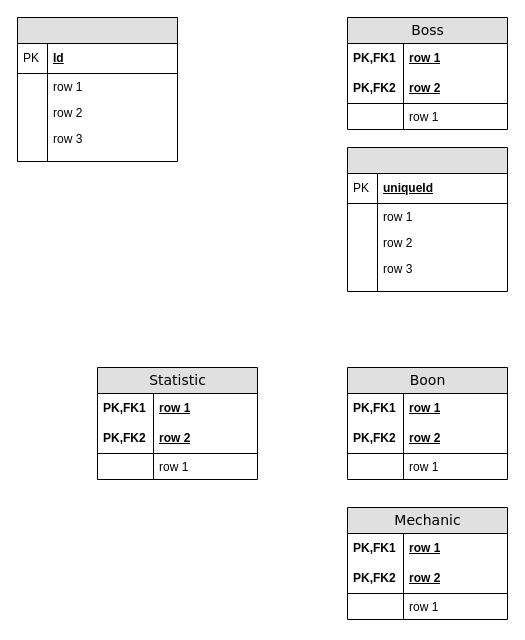
Image size: 525x640. Some labels were removed from this diagram. Each missing label, with the box of its shape:
Encounter: (16, 16, 178, 162)
Player: (346, 146, 508, 292)
